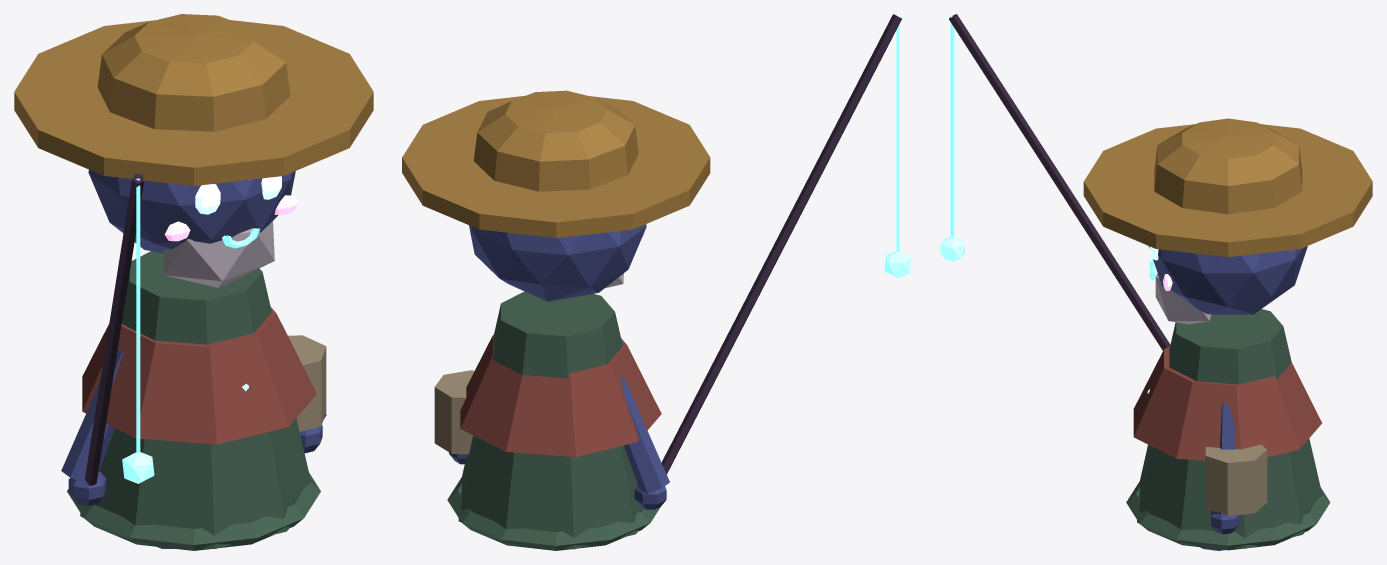
Rendered from pecheur_modele.glb.
3 renders of one model, left to right at view 1: azimuth 30°, elevation 25°; view 2: azimuth 150°, elevation 25°; view 3: azimuth 270°, elevation 25°, orthographic. The views are drawn at different scales.
Parts seen in each view (by area): view 1: Bord_Pecheur, Robe_Pecheur, P24.002, L21, Crane_Pecheur, P4.003, Barbe_Pecheur, Canne_Pecheur, P28.002, P8.003, P26.001, P9.003 (+3 smaller); view 2: Robe_Pecheur, Bord_Pecheur, P24.002, L21, Crane_Pecheur, Canne_Pecheur, P4.003, P28.002, P8.003, P26.001; view 3: Bord_Pecheur, Robe_Pecheur, P24.002, L21, Crane_Pecheur, P28.002, Canne_Pecheur, P4.003, Barbe_Pecheur, P26.001, P6.003.
Part boxes in pixels (x1=…): Bord_Pecheur: x1=14, y1=20, x2=373, y2=185; Robe_Pecheur: x1=80, y1=251, x2=311, y2=548; P24.002: x1=82, y1=307, x2=316, y2=444; L21: x1=97, y1=14, x2=290, y2=131; Crane_Pecheur: x1=88, y1=169, x2=295, y2=253; P4.003: x1=67, y1=473, x2=320, y2=550; Barbe_Pecheur: x1=163, y1=221, x2=274, y2=287; Canne_Pecheur: x1=85, y1=173, x2=143, y2=485; P28.002: x1=288, y1=335, x2=326, y2=431; P8.003: x1=61, y1=350, x2=123, y2=483; P26.001: x1=136, y1=178, x2=140, y2=453; P9.003: x1=68, y1=471, x2=105, y2=505; Robe_Pecheur: x1=458, y1=291, x2=642, y2=549; Bord_Pecheur: x1=402, y1=95, x2=710, y2=238; P24.002: x1=460, y1=334, x2=661, y2=456; L21: x1=473, y1=90, x2=638, y2=191; Crane_Pecheur: x1=469, y1=224, x2=646, y2=301; Canne_Pecheur: x1=661, y1=14, x2=901, y2=474; P4.003: x1=447, y1=477, x2=660, y2=550; P28.002: x1=434, y1=370, x2=474, y2=454; P8.003: x1=621, y1=376, x2=669, y2=493; P26.001: x1=896, y1=16, x2=899, y2=251; Bord_Pecheur: x1=1083, y1=124, x2=1372, y2=257; Robe_Pecheur: x1=1137, y1=309, x2=1322, y2=548; P24.002: x1=1133, y1=346, x2=1321, y2=460; L21: x1=1154, y1=118, x2=1302, y2=214; Crane_Pecheur: x1=1148, y1=246, x2=1307, y2=314; P28.002: x1=1205, y1=444, x2=1267, y2=515; Canne_Pecheur: x1=949, y1=14, x2=1170, y2=350; P4.003: x1=1126, y1=481, x2=1330, y2=550; Barbe_Pecheur: x1=1155, y1=274, x2=1212, y2=324; P26.001: x1=950, y1=16, x2=954, y2=237; P6.003: x1=1213, y1=403, x2=1235, y2=513.
Size of the model in its own units: 1.31 by 1.68 by 1.53.
